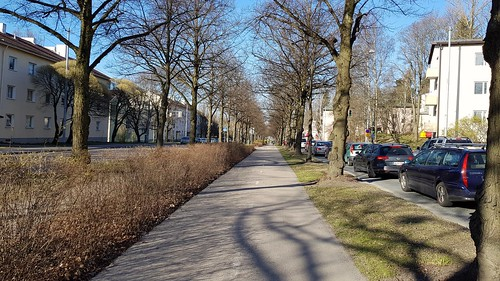building: (1, 60, 104, 166), (419, 48, 496, 150), (112, 76, 190, 144)
car: (398, 142, 488, 210), (356, 141, 413, 181)
sidewalk: (156, 148, 333, 281)
tree: (312, 1, 377, 175), (44, 1, 106, 175), (268, 3, 327, 148), (138, 8, 190, 160), (183, 18, 221, 143), (223, 56, 260, 145)
